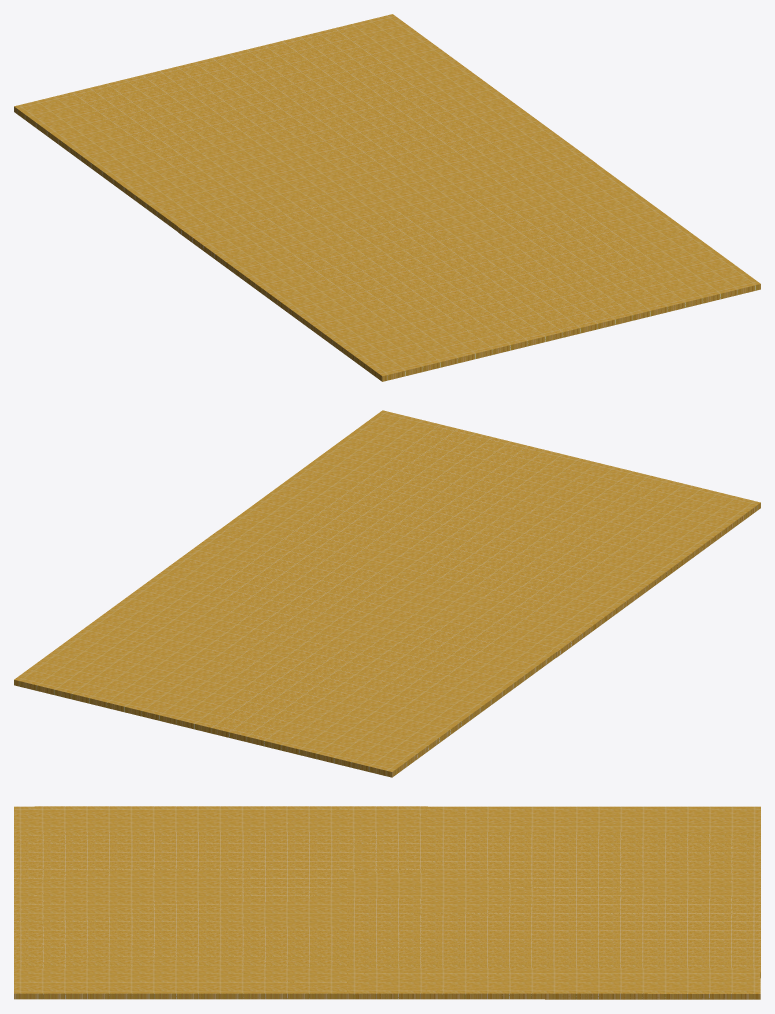
File: piso.glb
3 views of the same model, one above another, from view 1: azimuth 30°, elevation 25°; view 2: azimuth 150°, elevation 25°; view 3: azimuth 270°, elevation 25° (orthographic).
Visible parts, largest first — view 1: Suelo_TileTexture_0.003; view 2: Suelo_TileTexture_0.003; view 3: Suelo_TileTexture_0.003.
Boxes of the visible parts, <box> form: Suelo_TileTexture_0.003: <box>14,14,760,381</box>; Suelo_TileTexture_0.003: <box>14,410,760,777</box>; Suelo_TileTexture_0.003: <box>14,806,760,999</box>.
Bounding box in the file's own units: 33.92 × 0.4801 × 57.13.
4 materials, 4 textured.
